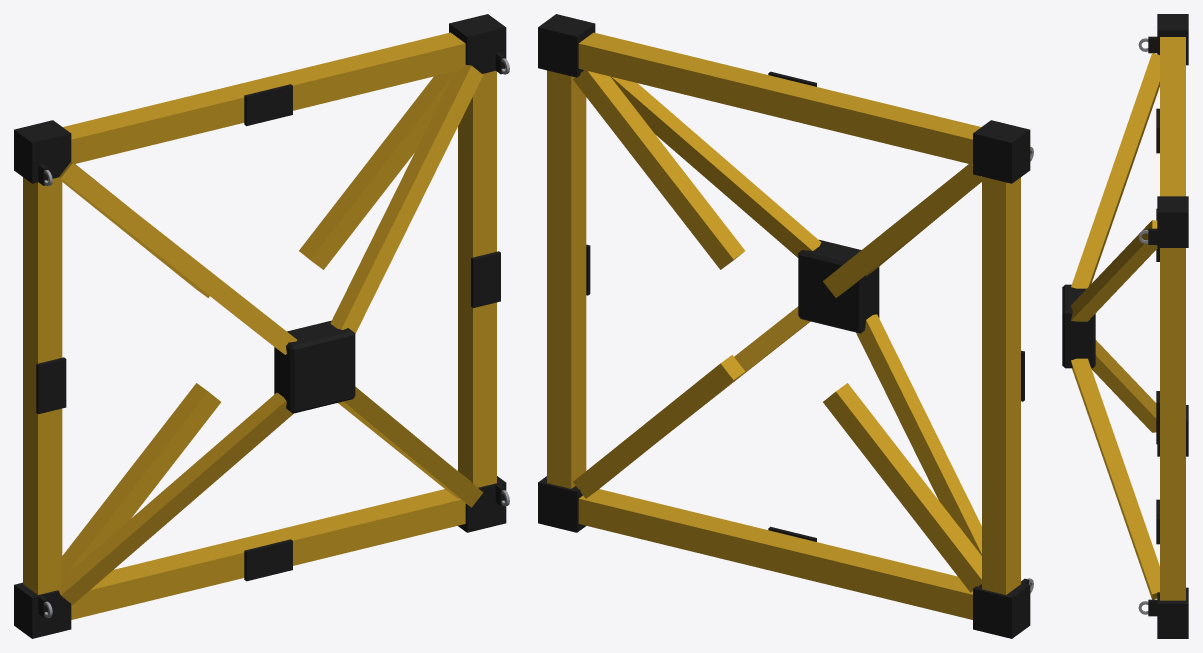
The model's file is tr20k_frame.obj.
The picture shows the model from 3 angles, left to right: view 1: azimuth 30°, elevation 25°; view 2: azimuth 150°, elevation 25°; view 3: azimuth 270°, elevation 25°; orthographic projection. The views are drawn at different scales.
Parts seen in each view (by area): view 1: tr20k_frame; view 2: tr20k_frame; view 3: tr20k_frame.
Part boxes in pixels (x1,y1,x2,y2): tr20k_frame: (14,14,509,638); tr20k_frame: (538,14,1033,638); tr20k_frame: (1062,14,1188,638).
Bounding box in the file's own units: 5.1 × 5.1 × 1.37.
